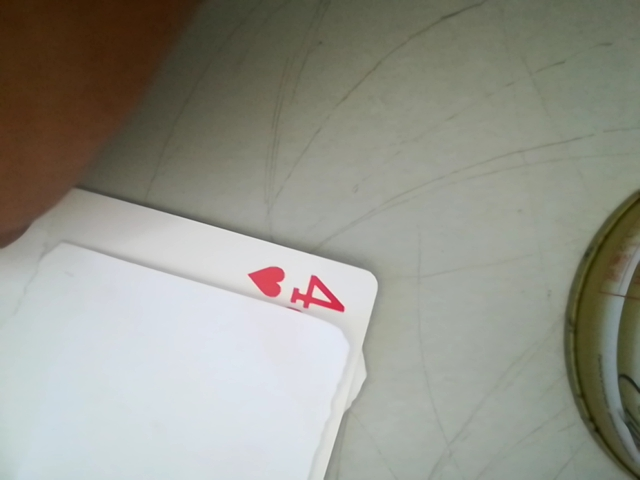hx 4: (239, 258, 364, 318)
